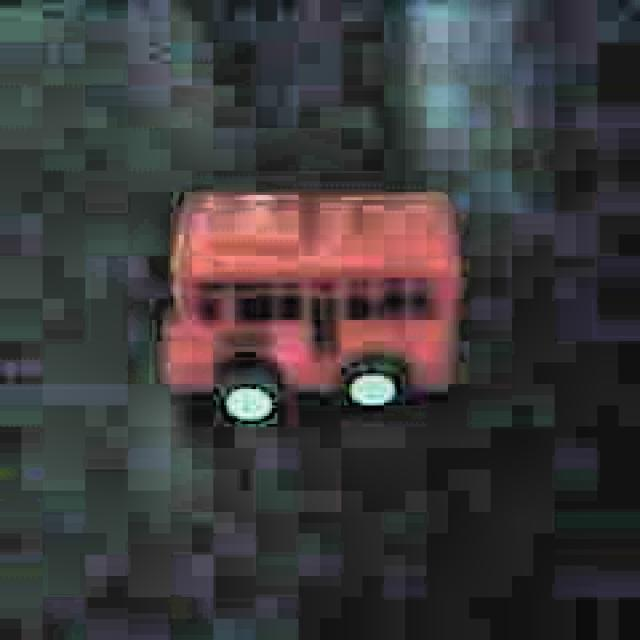bus: (151, 176, 466, 437)
